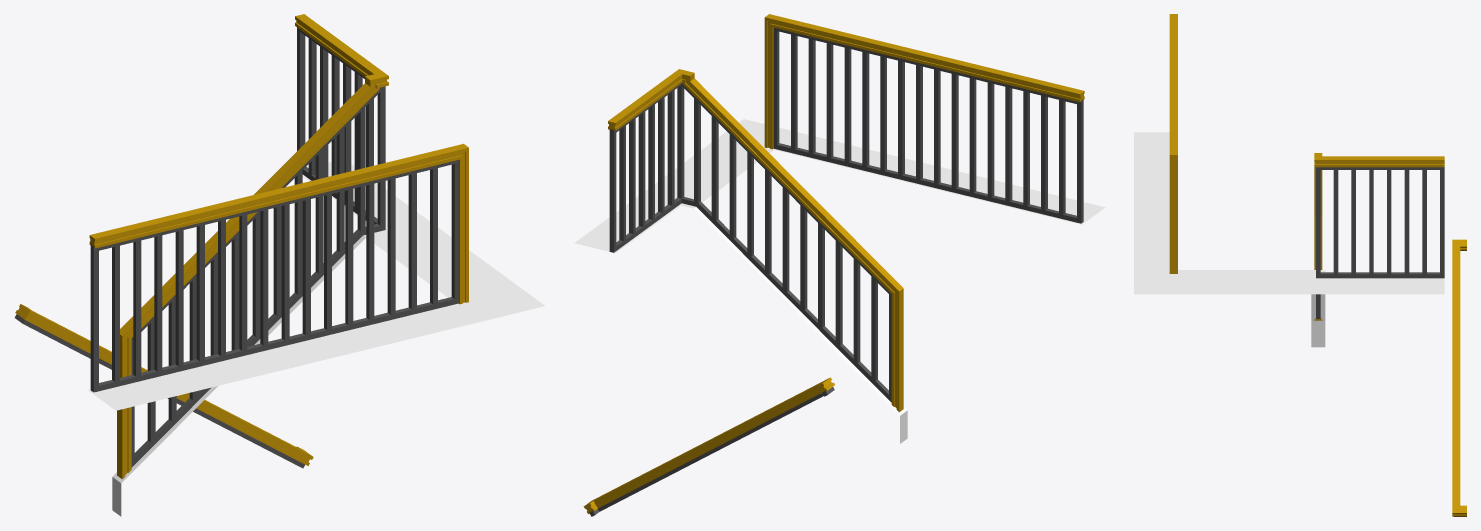
File: Railing.obj
3 views of the same model, side by side, from view 1: azimuth 30°, elevation 25°; view 2: azimuth 150°, elevation 25°; view 3: azimuth 270°, elevation 25° (orthographic). The views are drawn at different scales.
Visible parts, largest first — view 1: Mesh2 Floor_part1 Group1 Model, Mesh4 HandRailLedgeHorizontal1 Model, Mesh6 HandRailStairs1 Model, Mesh8 TubeLedgeHorizontal1 Model, Mesh53 HandRailStairsLower1 Model, Mesh5 HandRailLedgeVertical1 Model, Mesh12 StairsHorizontalLower1 Model, Mesh3 HandRailTop1 Model, Mesh7 HandRailLedgeVerticalLanding1 Model, Mesh9 TubeLedgeHorizontal2 Model, Mesh1 Stairs_part1 Group1 Model, Mesh15 TubeVertical1 Model (+36 smaller); view 2: Mesh2 Floor_part1 Group1 Model, Mesh4 HandRailLedgeHorizontal1 Model, Mesh6 HandRailStairs1 Model, Mesh53 HandRailStairsLower1 Model, Mesh8 TubeLedgeHorizontal1 Model, Mesh12 StairsHorizontalLower1 Model, Mesh7 HandRailLedgeVerticalLanding1 Model, Mesh1 Stairs_part1 Group1 Model, Mesh5 HandRailLedgeVertical1 Model, Mesh3 HandRailTop1 Model, Mesh58 LowerStairHorizontalLong1 Model, Mesh9 TubeLedgeHorizontal2 Model (+38 smaller); view 3: Mesh2 Floor_part1 Group1 Model, Mesh53 HandRailStairsLower1 Model, Mesh3 HandRailTop1 Model, Mesh4 HandRailLedgeHorizontal1 Model, Mesh5 HandRailLedgeVertical1 Model, Mesh11 TopHorizontal2 Model, Mesh1 Stairs_part1 Group1 Model, Mesh35 TubeVertical21 Model, Mesh39 TubeVertical25 Model, Mesh33 TubeVertical19 Model, Mesh34 TubeVertical20 Model, Mesh36 TubeVertical22 Model (+4 smaller).
Boxes of the visible parts, <box> form: Mesh2 Floor_part1 Group1 Model: <box>88,162,544,410</box>; Mesh4 HandRailLedgeHorizontal1 Model: <box>89,143,468,248</box>; Mesh6 HandRailStairs1 Model: <box>120,83,379,338</box>; Mesh8 TubeLedgeHorizontal1 Model: <box>90,297,458,392</box>; Mesh53 HandRailStairsLower1 Model: <box>25,310,313,465</box>; Mesh5 HandRailLedgeVertical1 Model: <box>458,148,468,304</box>; Mesh12 StairsHorizontalLower1 Model: <box>131,229,362,467</box>; Mesh3 HandRailTop1 Model: <box>295,14,388,82</box>; Mesh7 HandRailLedgeVerticalLanding1 Model: <box>117,334,131,479</box>; Mesh9 TubeLedgeHorizontal2 Model: <box>90,160,458,251</box>; Mesh1 Stairs_part1 Group1 Model: <box>112,232,380,516</box>; Mesh15 TubeVertical1 Model: <box>90,250,98,386</box>; Mesh2 Floor_part1 Group1 Model: <box>574,119,1105,253</box>; Mesh4 HandRailLedgeHorizontal1 Model: <box>765,14,1084,102</box>; Mesh6 HandRailStairs1 Model: <box>683,78,903,293</box>; Mesh53 HandRailStairsLower1 Model: <box>592,378,828,508</box>; Mesh8 TubeLedgeHorizontal1 Model: <box>773,143,1083,223</box>; Mesh12 StairsHorizontalLower1 Model: <box>696,201,891,402</box>; Mesh7 HandRailLedgeVerticalLanding1 Model: <box>891,289,903,412</box>; Mesh1 Stairs_part1 Group1 Model: <box>681,203,907,443</box>; Mesh5 HandRailLedgeVertical1 Model: <box>764,17,773,149</box>; Mesh3 HandRailTop1 Model: <box>608,69,682,130</box>; Mesh58 LowerStairHorizontalLong1 Model: <box>598,393,823,511</box>; Mesh9 TubeLedgeHorizontal2 Model: <box>773,27,1083,104</box>; Mesh2 Floor_part1 Group1 Model: <box>1134,132,1444,294</box>; Mesh53 HandRailStairsLower1 Model: <box>1452,240,1460,514</box>; Mesh3 HandRailTop1 Model: <box>1314,156,1444,167</box>; Mesh4 HandRailLedgeHorizontal1 Model: <box>1169,14,1177,154</box>; Mesh5 HandRailLedgeVertical1 Model: <box>1169,155,1177,273</box>; Mesh11 TopHorizontal2 Model: <box>1316,272,1444,278</box>; Mesh1 Stairs_part1 Group1 Model: <box>1311,270,1325,347</box>; Mesh35 TubeVertical21 Model: <box>1333,170,1338,274</box>; Mesh39 TubeVertical25 Model: <box>1404,170,1409,274</box>; Mesh33 TubeVertical19 Model: <box>1440,170,1444,274</box>; Mesh34 TubeVertical20 Model: <box>1316,170,1320,274</box>; Mesh36 TubeVertical22 Model: <box>1351,170,1355,274</box>.
Bounding box in the file's own units: 105 × 107 × 91.06.
